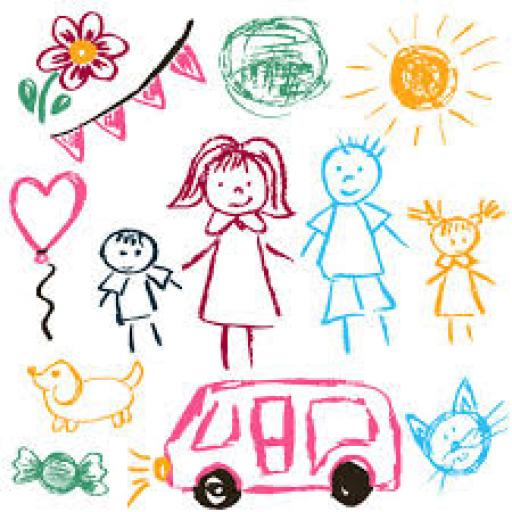person: (168, 128, 297, 370), (297, 130, 411, 357), (410, 181, 508, 357), (83, 218, 183, 368)
